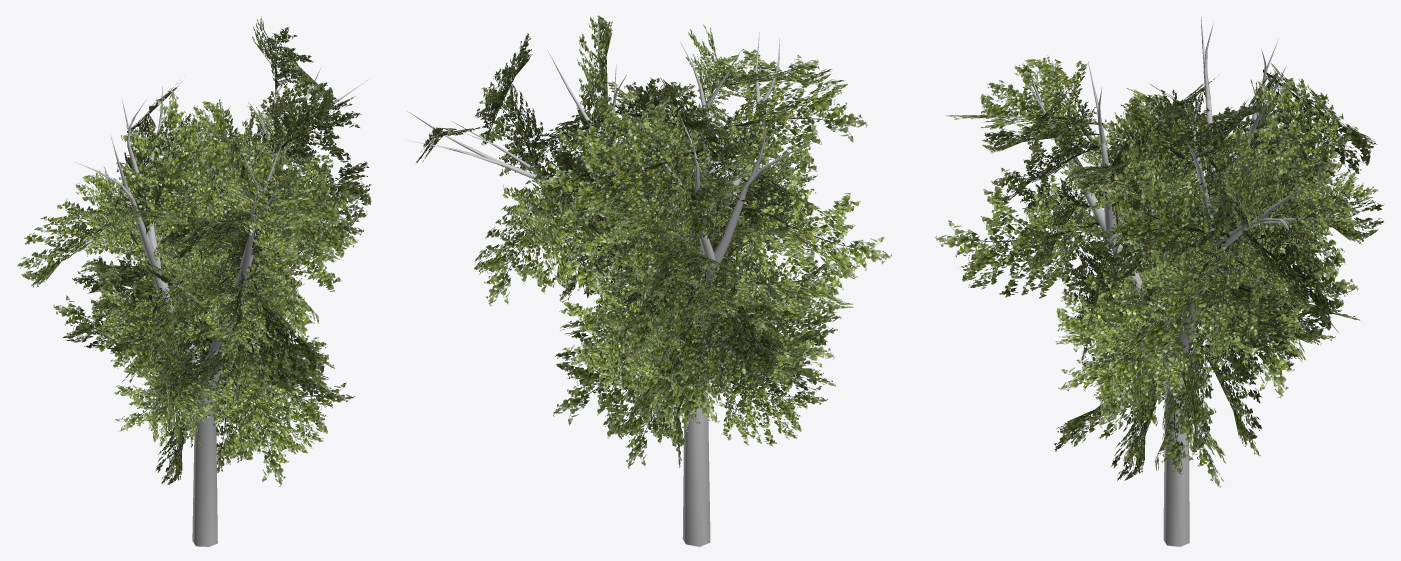
Rendered from tree3.fbx.
3 renders of one model, left to right at view 1: azimuth 30°, elevation 25°; view 2: azimuth 150°, elevation 25°; view 3: azimuth 270°, elevation 25°, orthographic. The views are drawn at different scales.
Visible parts, largest first — view 1: tree3; view 2: tree3; view 3: tree3.
Boxes of the visible parts, x1,y1,x2,y2 form: tree3: [17, 16, 371, 546]; tree3: [405, 15, 891, 546]; tree3: [935, 16, 1384, 546].
Bounding box in the file's own units: 1.76 × 1.97 × 1.55.
